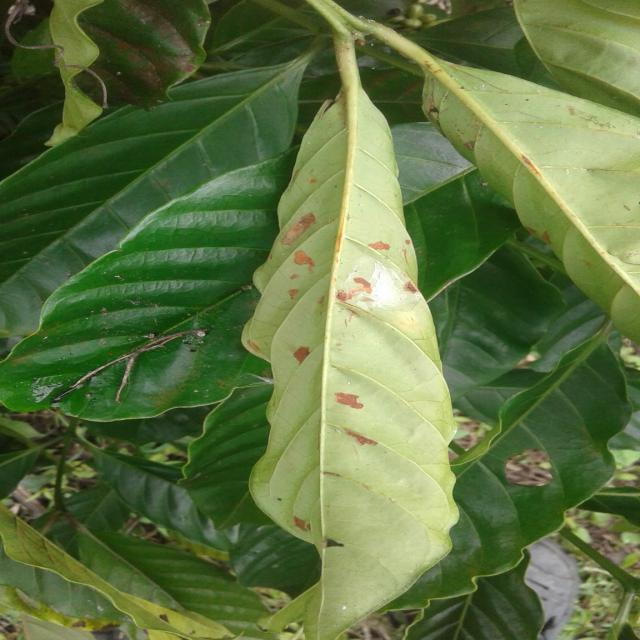Plaga-AranaRoja: (241, 39, 459, 640)
